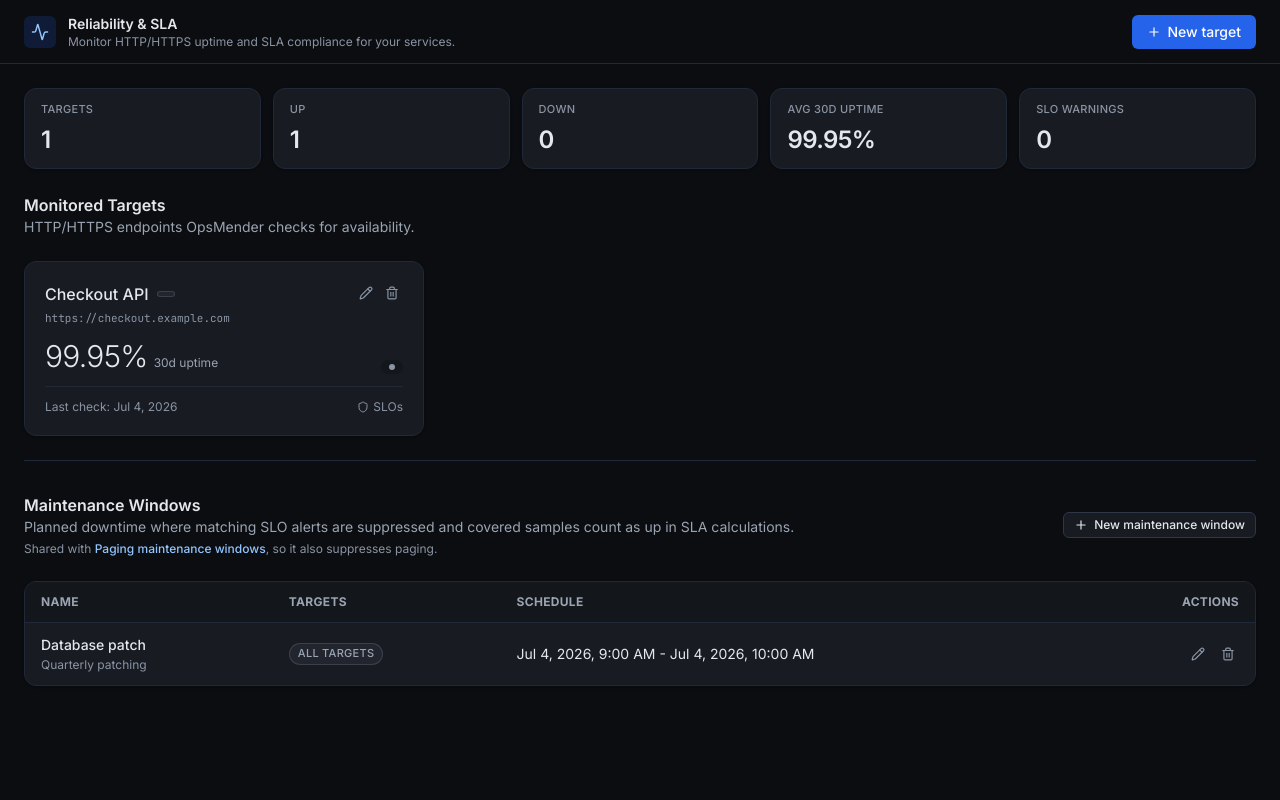
Test case: Reliability page load failures › refreshes again after coming back from the back/forward cache
This screenshot has width=1280, height=800.
Check: the heading "Checkout API" is shown, box x1=45 y1=282 x2=148 y2=306
Click the button titled "Delete target".
click(392, 292)  # box x1=381 y1=282 x2=403 y2=304
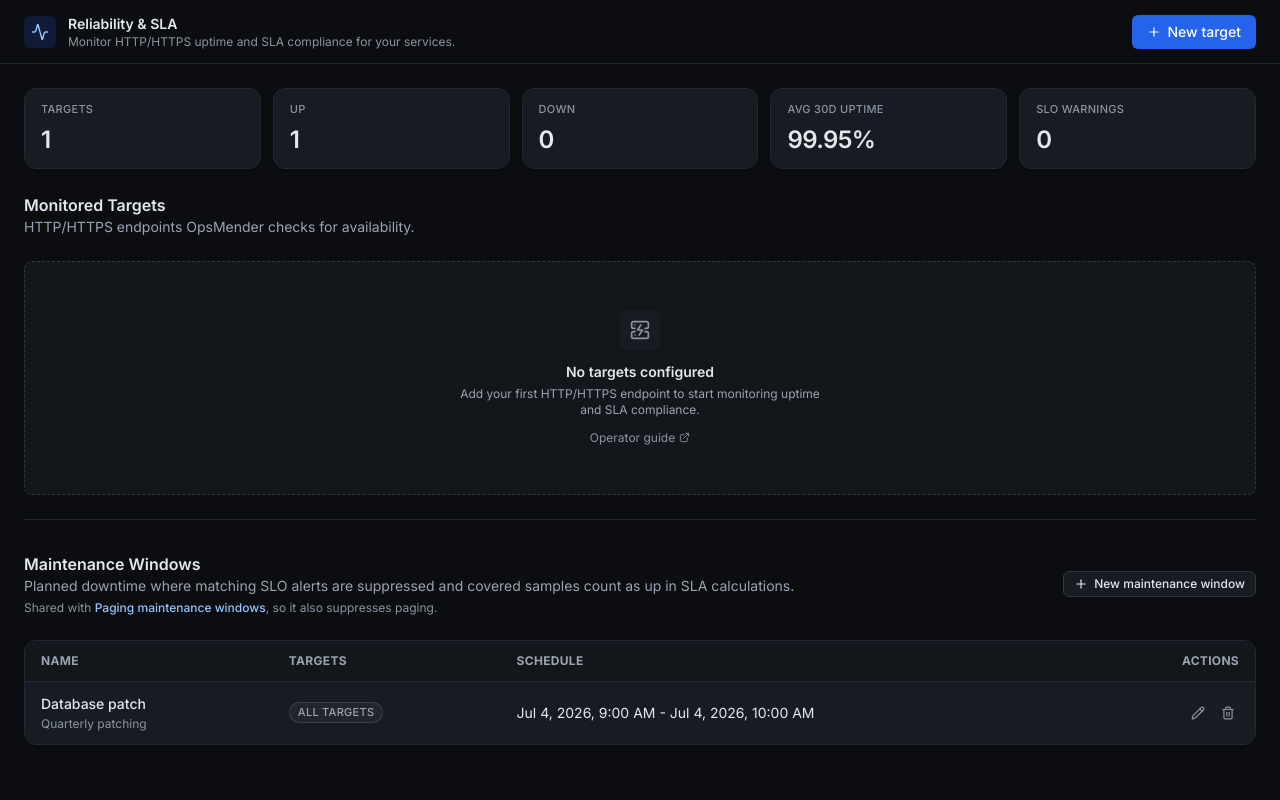
Check: the heading "No targets configured" is shown, box x1=566 y1=362 x2=714 y2=382
